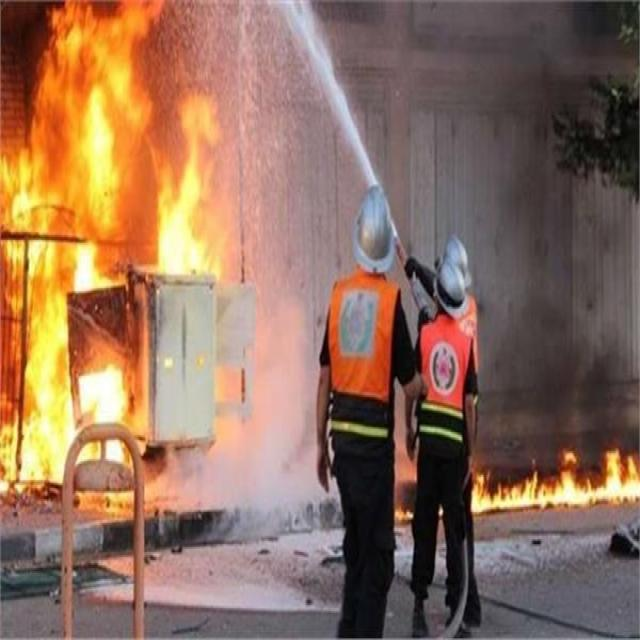Fire: (0, 1, 149, 503), (151, 84, 225, 282), (472, 447, 640, 511), (396, 502, 416, 522)
Smoke: (158, 358, 332, 516), (485, 53, 585, 304), (479, 291, 640, 445)
